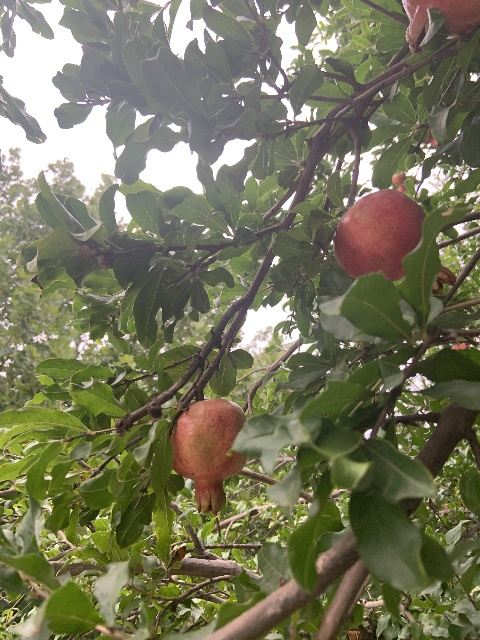ripe: (333, 188, 456, 293), (169, 399, 247, 514), (386, 0, 480, 51)
